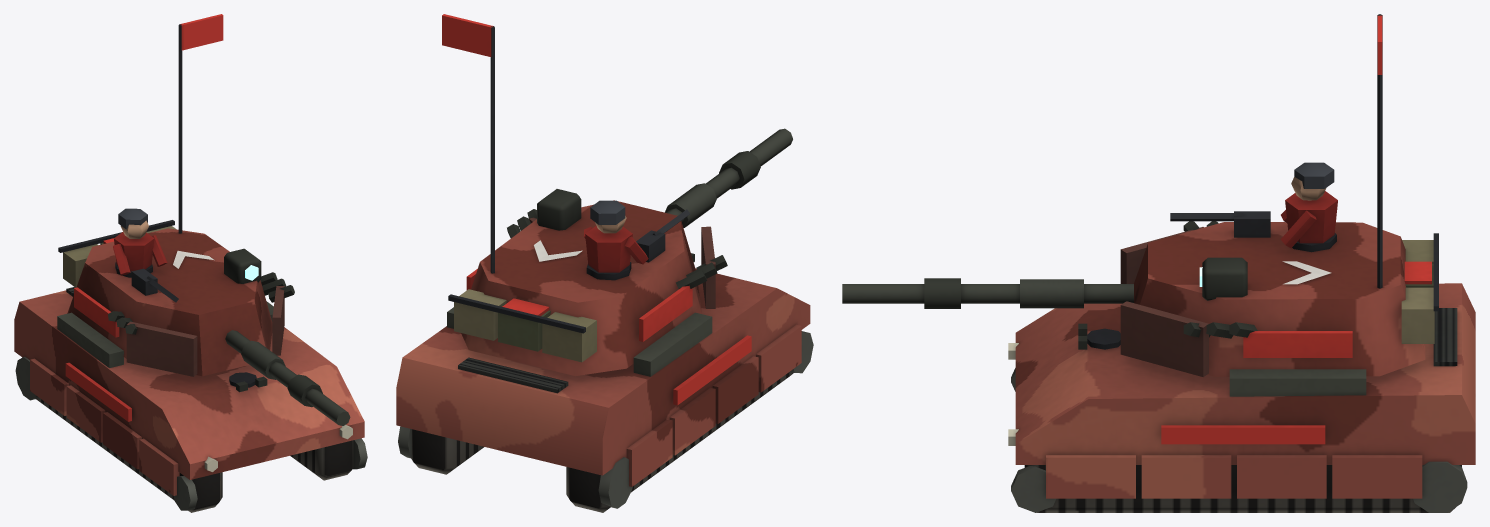
Rendered from assault_dl7_red.glb.
3 renders of one model, left to right at view 1: azimuth 30°, elevation 25°; view 2: azimuth 150°, elevation 25°; view 3: azimuth 270°, elevation 25°, orthographic. The views are drawn at different scales.
Parts seen in each view (by area): view 1: assault_dl7_red; view 2: assault_dl7_red; view 3: assault_dl7_red.
Boxes of the visible parts, x1,y1,x2,y2 form: assault_dl7_red: (14,14,367,512); assault_dl7_red: (396,14,813,512); assault_dl7_red: (842,14,1475,512).
Size of the model in its own units: 0.31 by 0.575 by 0.695.
2 materials, 1 textured.
